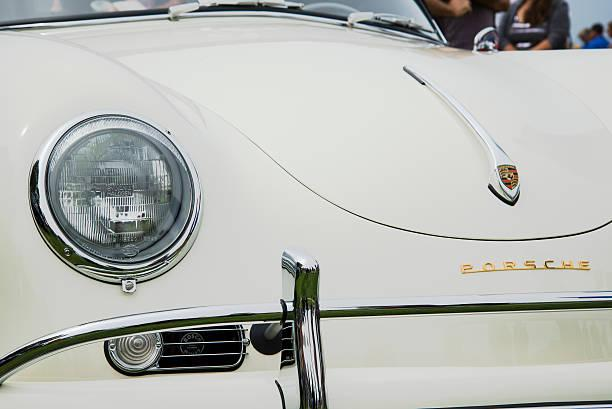porsche: (451, 254, 604, 280), (485, 159, 531, 201)
